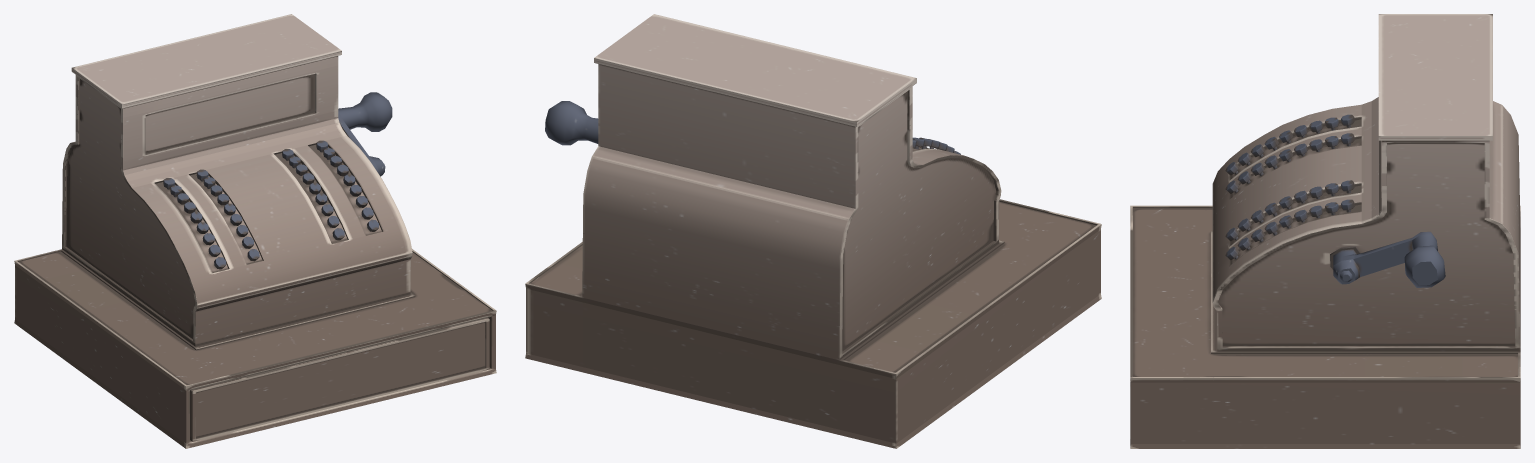
File: register.fbx
The picture shows the model from 3 angles, left to right: view 1: azimuth 30°, elevation 25°; view 2: azimuth 150°, elevation 25°; view 3: azimuth 270°, elevation 25°; orthographic projection. The views are drawn at different scales.
Visible parts, largest first — view 1: Money; view 2: Money; view 3: Money.
Part boxes in pixels (x1,y1,x2,y2): Money: (14,14,496,448); Money: (525,14,1101,448); Money: (1130,14,1520,448).
Size of the model in its own units: 83.01 by 60.82 by 74.7.
1 material, 1 textured.
